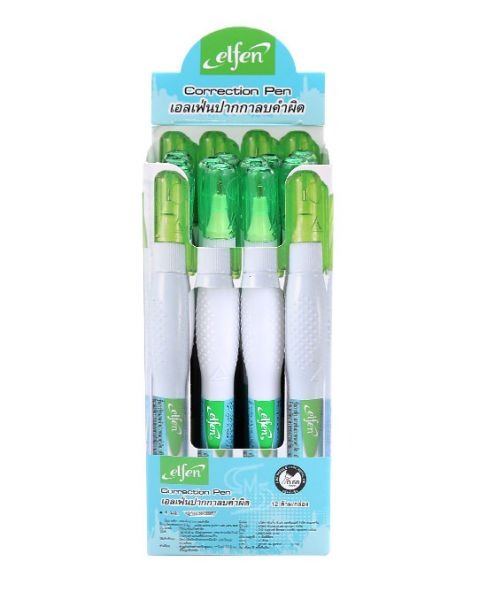Correction_fluid: (238, 161, 288, 455), (191, 161, 240, 454)
